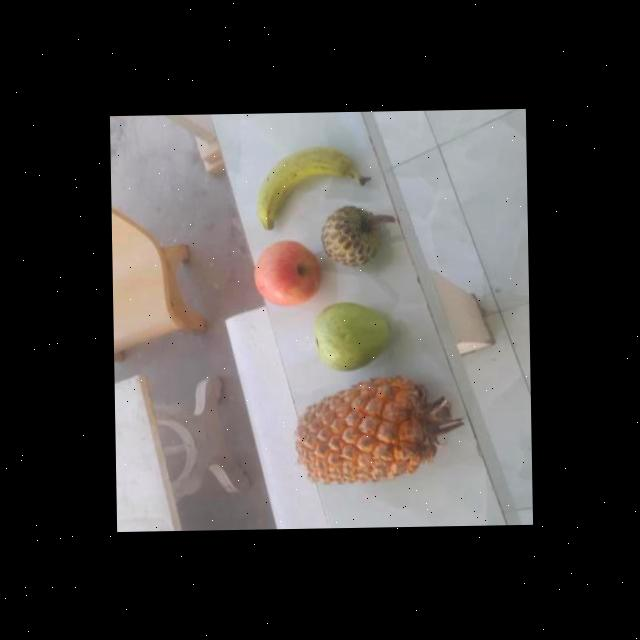Sakya fruit: (319, 205, 382, 272)
apple: (252, 237, 321, 308)
banana: (254, 147, 360, 234)
guava: (310, 298, 394, 372)
pineapple: (293, 380, 439, 490)
